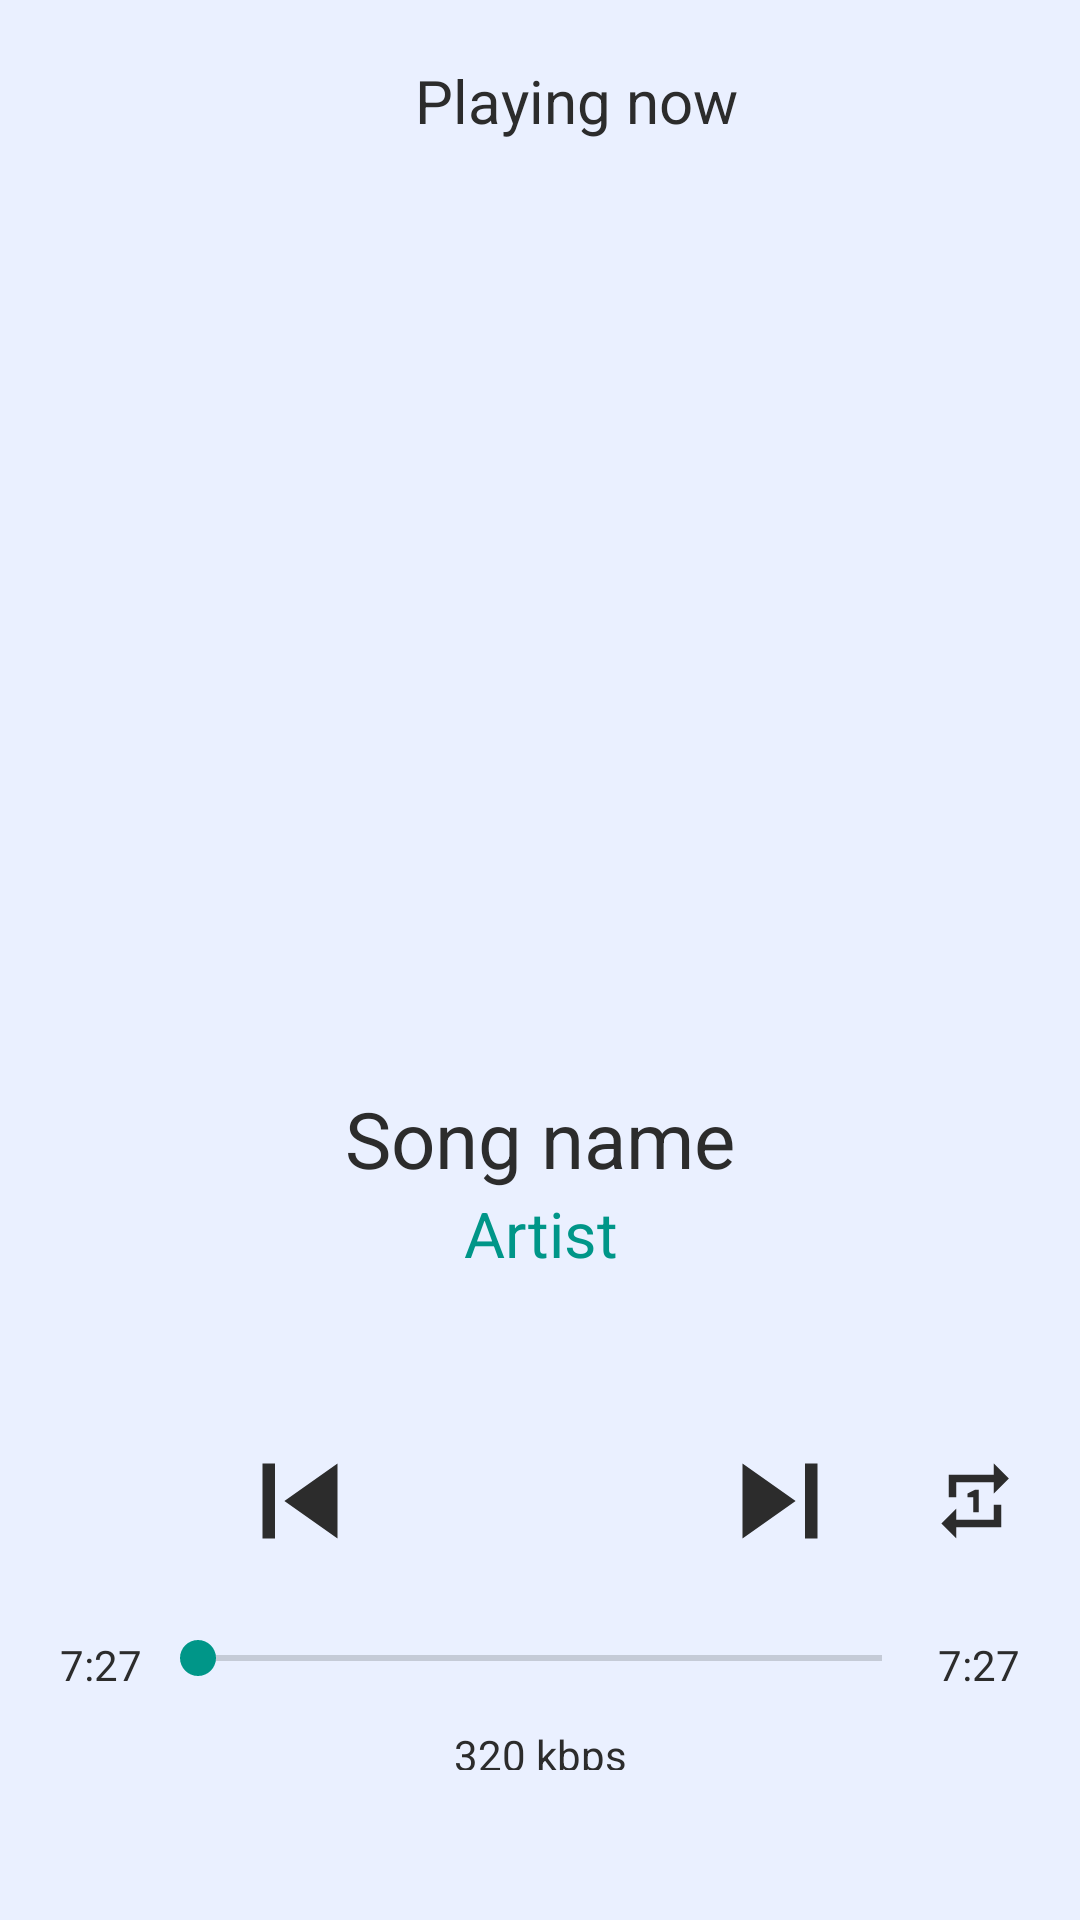

Named icons in this screenshot (1080*1920) and their centers, point (x, y):
next: point (780, 1501)
previous: point (300, 1501)
repeat: point (975, 1500)
